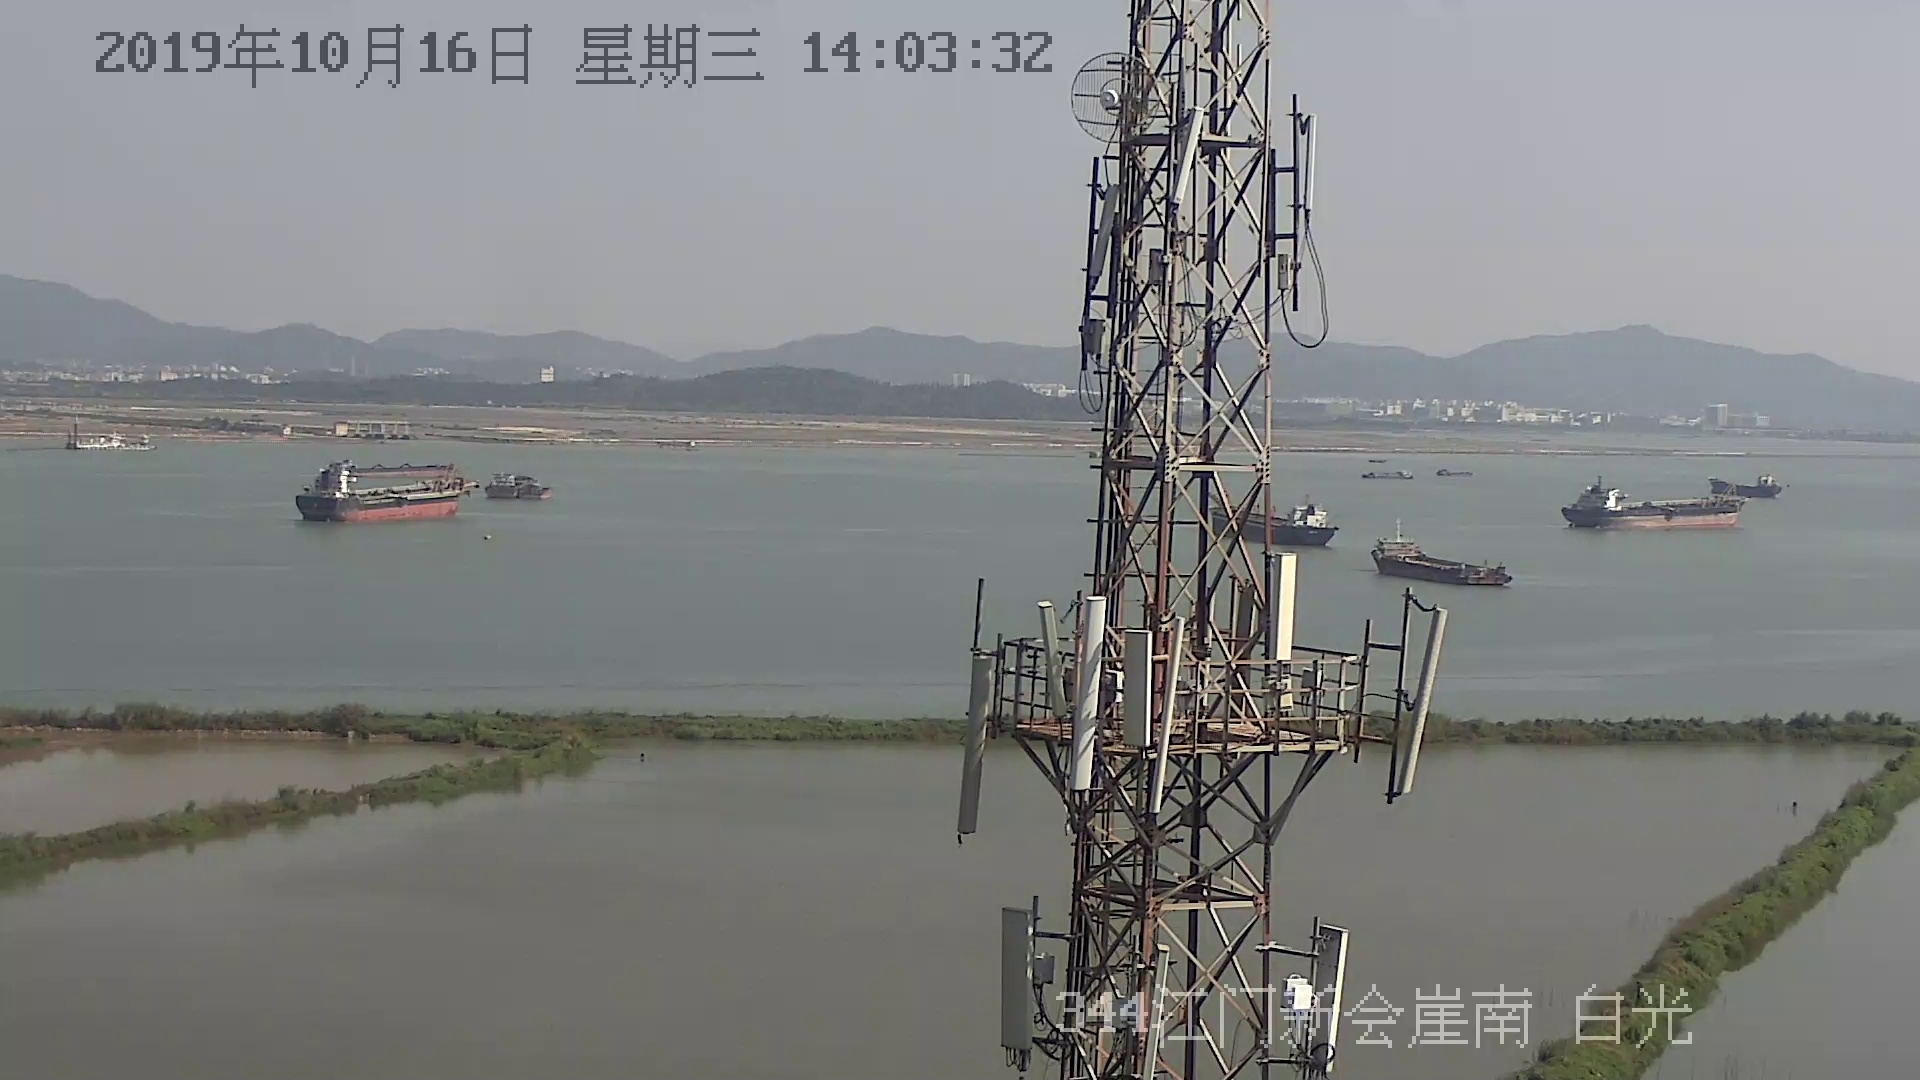ship: (295, 460, 469, 525), (1561, 483, 1756, 535), (1367, 526, 1513, 585), (485, 476, 553, 502)
